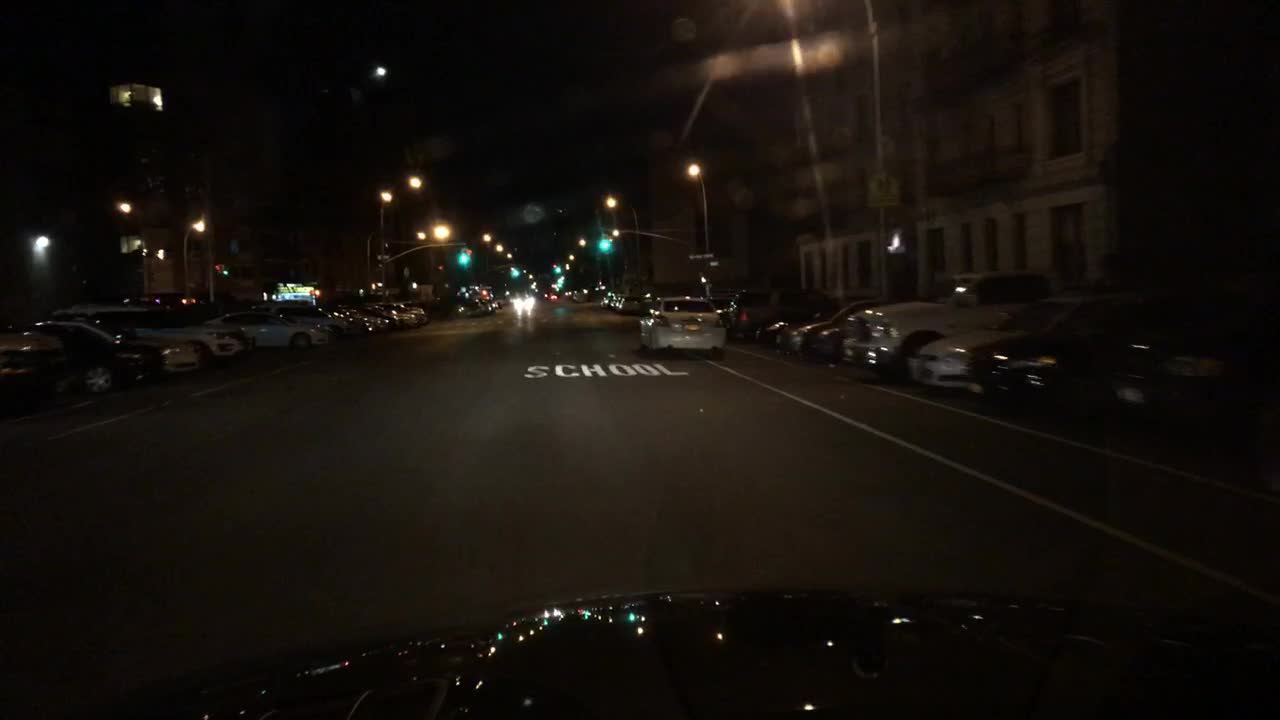car: (839, 269, 1101, 385), (965, 288, 1204, 406), (1096, 280, 1278, 414), (907, 285, 1126, 395), (0, 310, 167, 399), (54, 301, 255, 362), (26, 312, 211, 376), (725, 281, 840, 341), (774, 295, 882, 358), (635, 296, 729, 361), (194, 308, 325, 352), (0, 322, 66, 406), (248, 299, 354, 340), (277, 299, 377, 334), (751, 304, 833, 346), (330, 303, 386, 333), (344, 305, 410, 327), (363, 305, 419, 329), (701, 290, 735, 329), (440, 292, 489, 319), (389, 301, 431, 324), (617, 290, 645, 316), (466, 291, 498, 313), (636, 292, 660, 316), (606, 292, 629, 313), (597, 288, 618, 309), (517, 294, 536, 310), (569, 288, 589, 302), (492, 292, 506, 308), (541, 290, 558, 303), (564, 287, 580, 297), (506, 294, 520, 305)
traffic light: (595, 235, 612, 254), (457, 245, 471, 264), (433, 261, 446, 275), (551, 262, 562, 278), (508, 264, 520, 278), (211, 263, 225, 275), (555, 276, 569, 287)
traffic sign: (862, 165, 904, 208), (684, 248, 719, 262), (371, 250, 392, 262)
